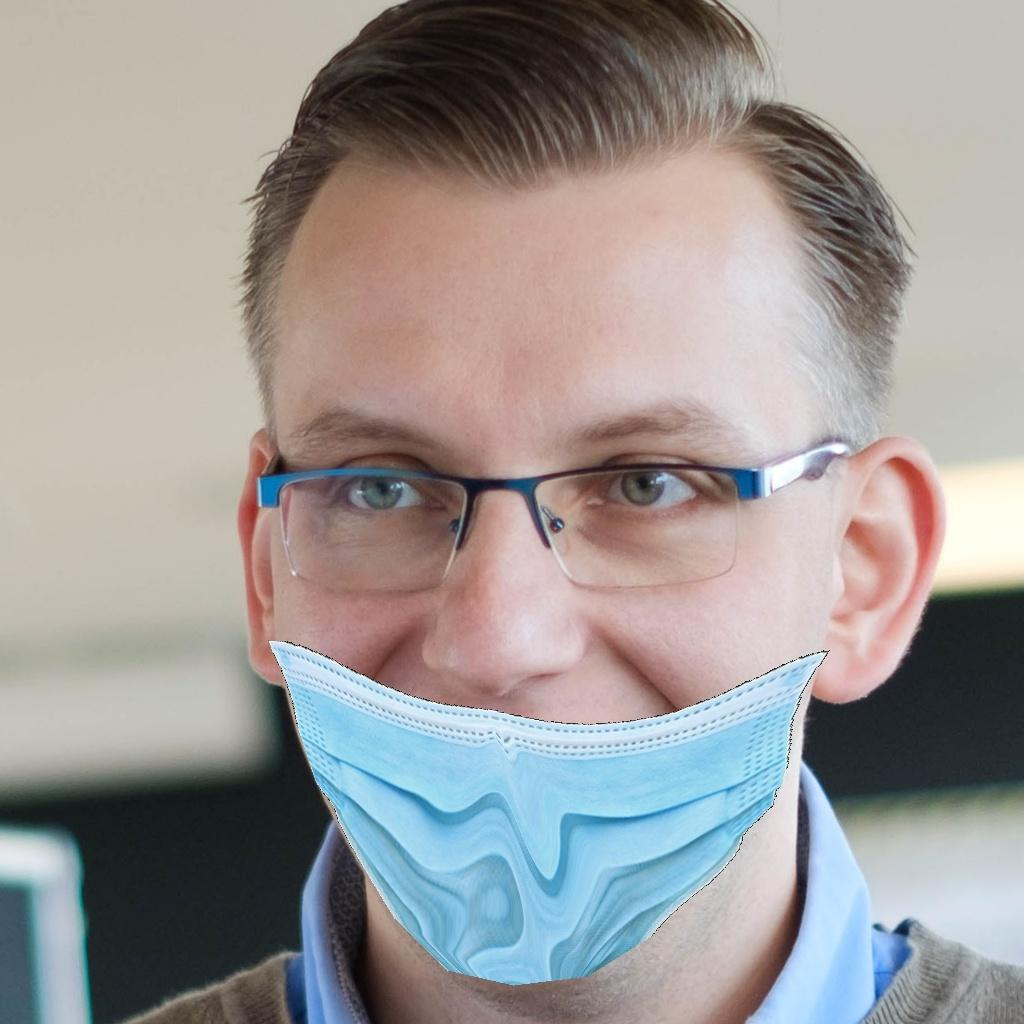Máscara Incorreta: (241, 282, 848, 971)
